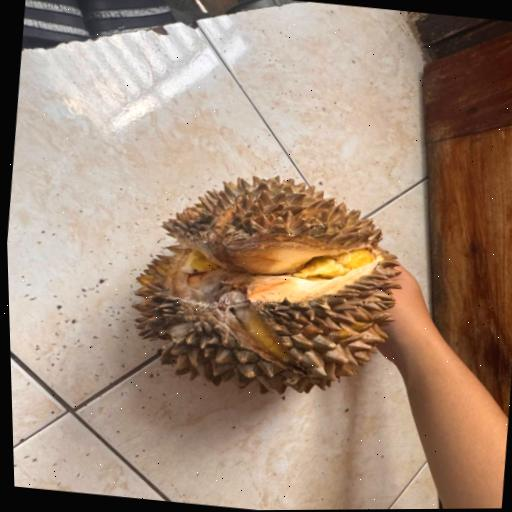rot: (93, 138, 434, 404)
